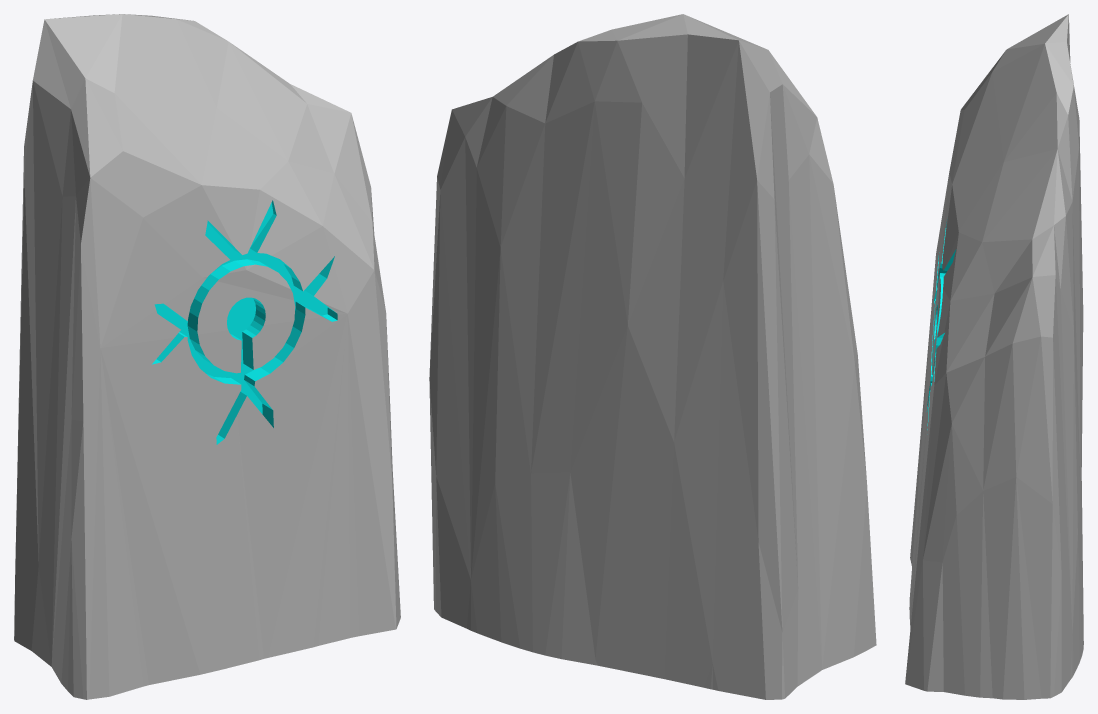
The model's file is Rock_Prop_Tribal_Stone_Altar_Rune_03.FBX.
The picture shows the model from 3 angles, left to right: view 1: azimuth 30°, elevation 25°; view 2: azimuth 150°, elevation 25°; view 3: azimuth 270°, elevation 25°; orthographic projection. The views are drawn at different scales.
Parts seen in each view (by area): view 1: Rock_Prop_Tribal_Stone_Altar_Rune_03; view 2: Rock_Prop_Tribal_Stone_Altar_Rune_03; view 3: Rock_Prop_Tribal_Stone_Altar_Rune_03.
Part boxes in pixels (x1,y1,x2,y2): Rock_Prop_Tribal_Stone_Altar_Rune_03: [14, 14, 400, 699]; Rock_Prop_Tribal_Stone_Altar_Rune_03: [429, 14, 876, 699]; Rock_Prop_Tribal_Stone_Altar_Rune_03: [905, 14, 1083, 699].
Bounding box in the file's own units: 1397 × 2319 × 678.
